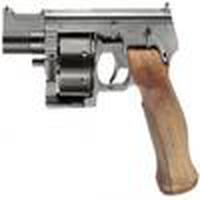gun: (1, 8, 197, 194)
